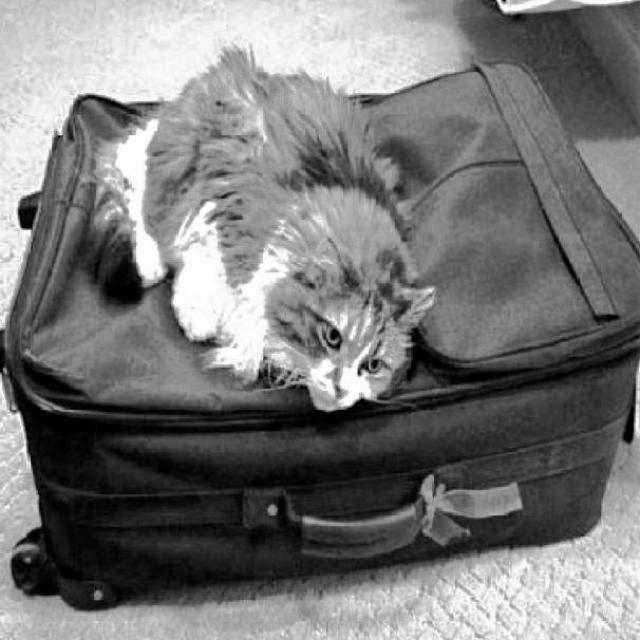Cat: (82, 39, 442, 418)
